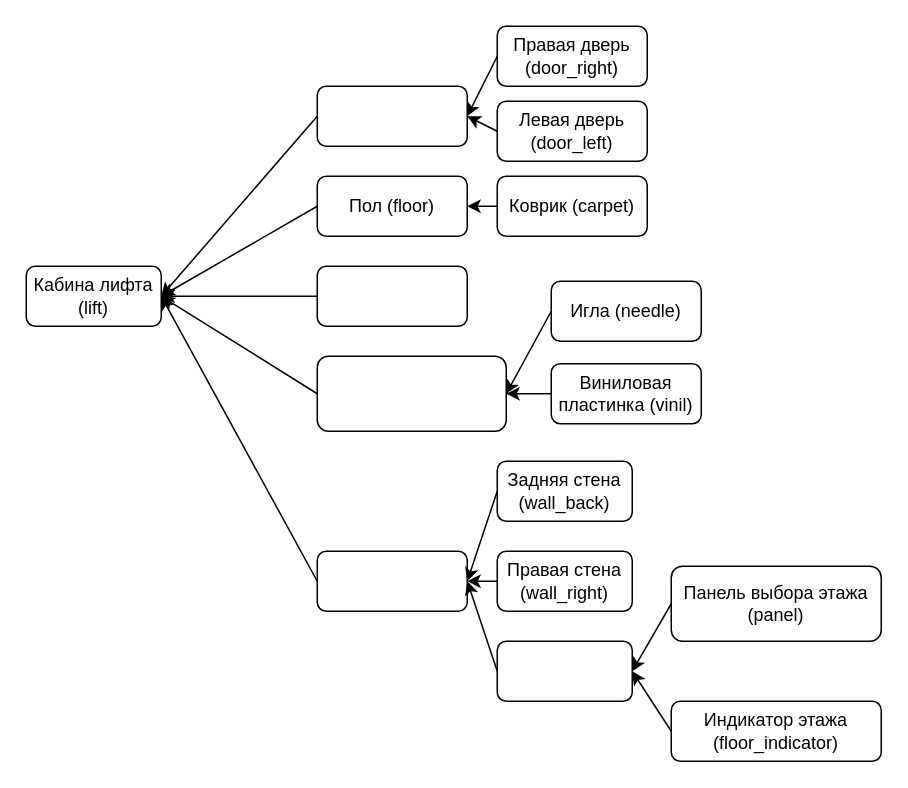
Some shapes in this 908 by 788 pixel diagram are drawn without their labels. Here are the shapes that lost their labels. From the top down, the centre of each, then its label:
At point 391,115: "Двери (doors)".
At point 391,295: "Потолок с лампой (ceiling)".
At point 411,393: "Музыкальный проигрыватель (musicbox)".
At point 391,580: "Стены (walls)".
At point 564,670: "Левая стена (wall_left)".
